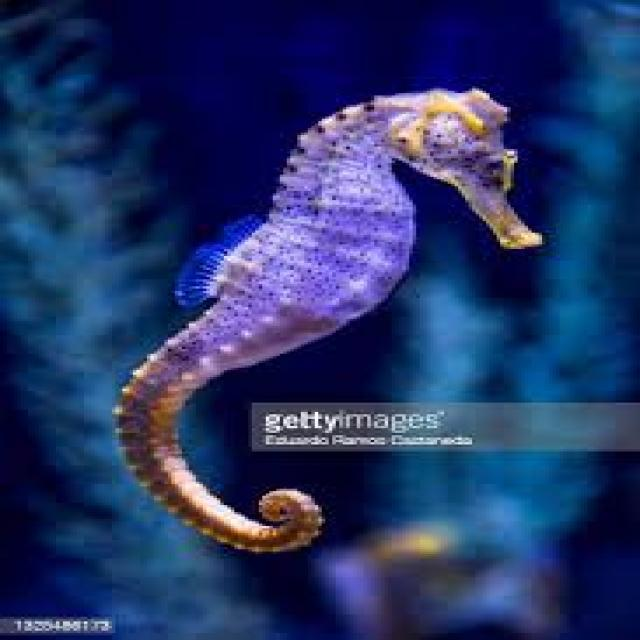SeaHorse: (115, 89, 546, 554)
